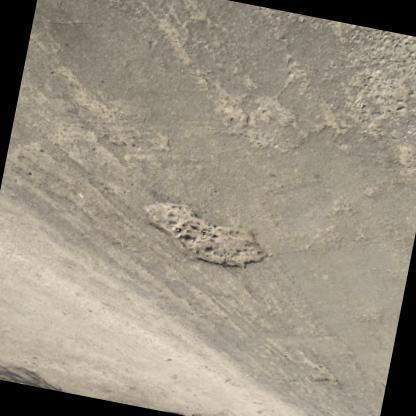pothole: (144, 200, 270, 270), (214, 93, 292, 132)
